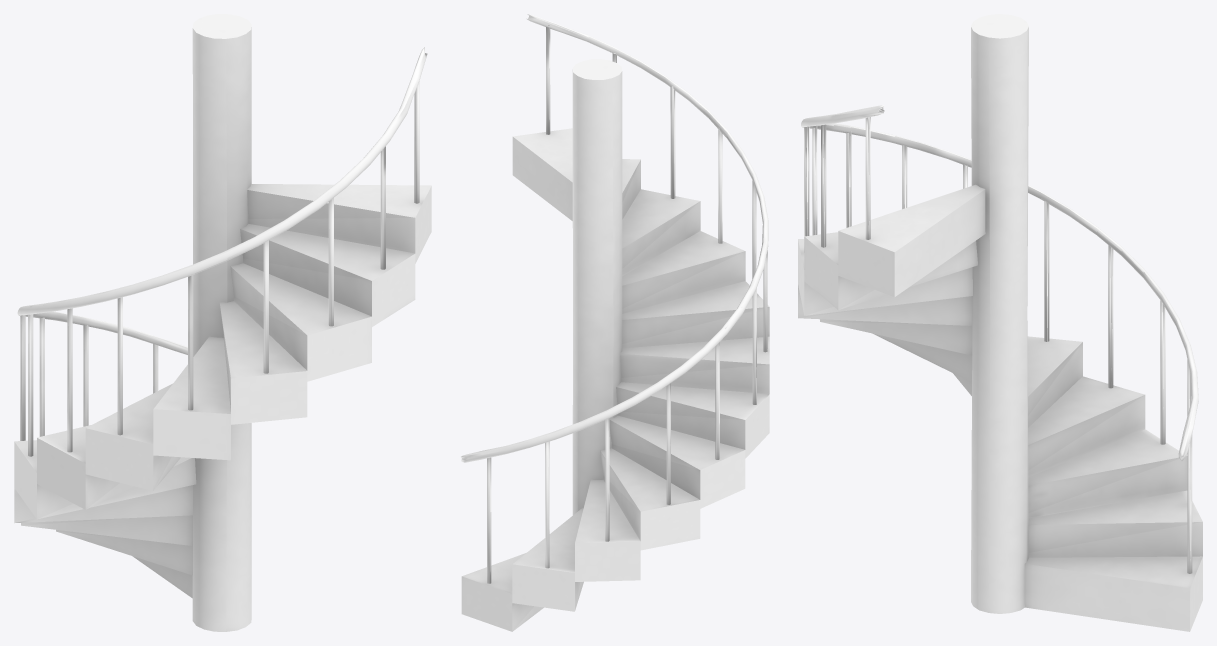
Rendered from Spiral Stairs.glb.
3 views of the same model, side by side, from view 1: azimuth 30°, elevation 25°; view 2: azimuth 150°, elevation 25°; view 3: azimuth 270°, elevation 25° (orthographic). The views are drawn at different scales.
Parts seen in each view (by area): view 1: SpiralStairs, SpiralStairs.001, SpiralStairs.002; view 2: SpiralStairs, SpiralStairs.001, SpiralStairs.002; view 3: SpiralStairs, SpiralStairs.001, SpiralStairs.002.
Part boxes in pixels (x1,y1,x2,y2): SpiralStairs: (14,184,431,598); SpiralStairs.001: (192,14,251,631); SpiralStairs.002: (17,47,427,456); SpiralStairs: (461,128,769,631); SpiralStairs.001: (572,59,622,515); SpiralStairs.002: (460,14,768,583); SpiralStairs: (798,184,1202,631); SpiralStairs.001: (971,14,1028,613); SpiralStairs.002: (801,105,1198,573).
Size of the model in its own units: 1.92 by 3.24 by 2.07.
Materials: 1 (1 with a texture image).
